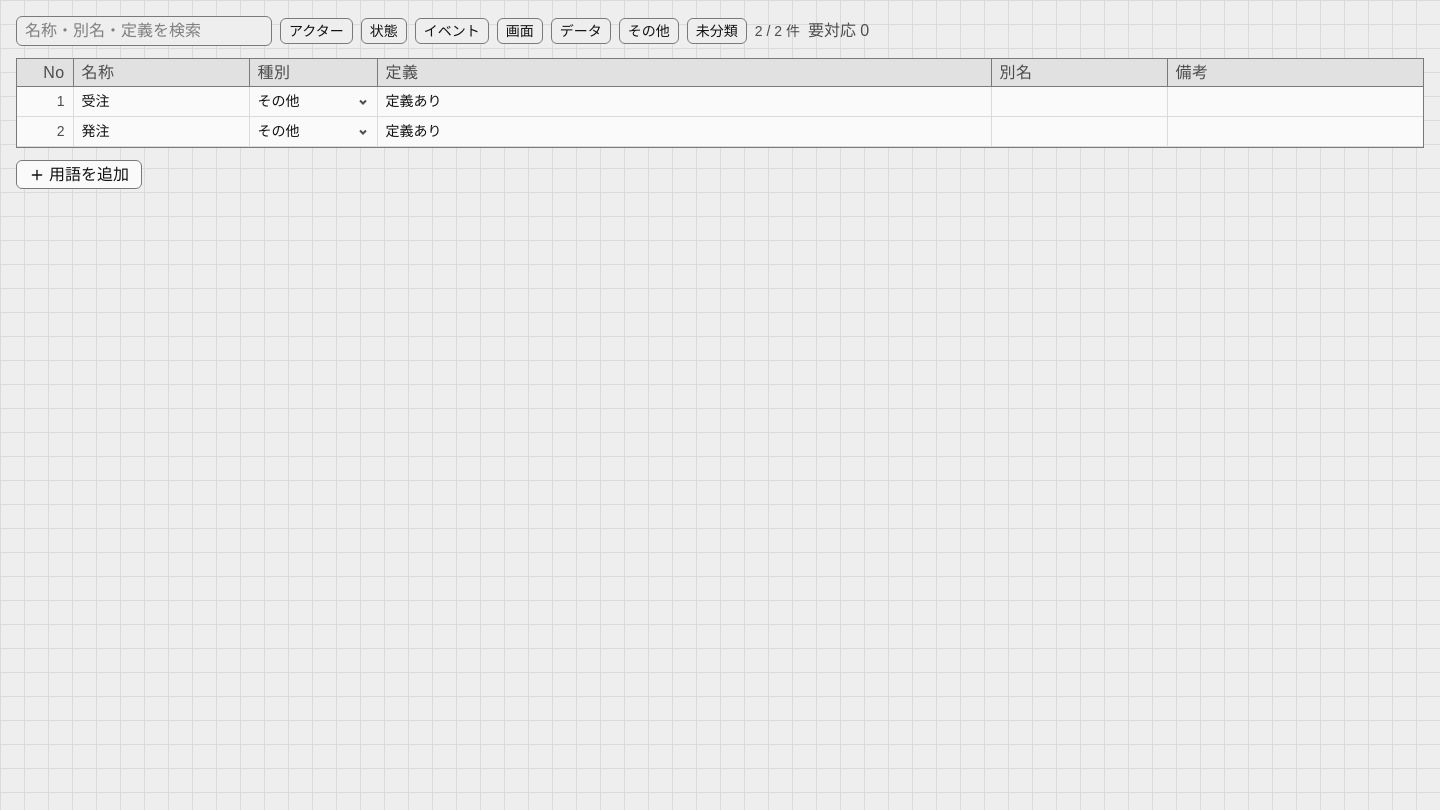
GlossaryEditor: 別名パネル › パネル末尾での↓は下の行の別名セルへ抜ける（別名列だけ縦移動が途切れない）
Focus the button named "別名（1行目）" at (1079, 102), box [992,98,1166,106]
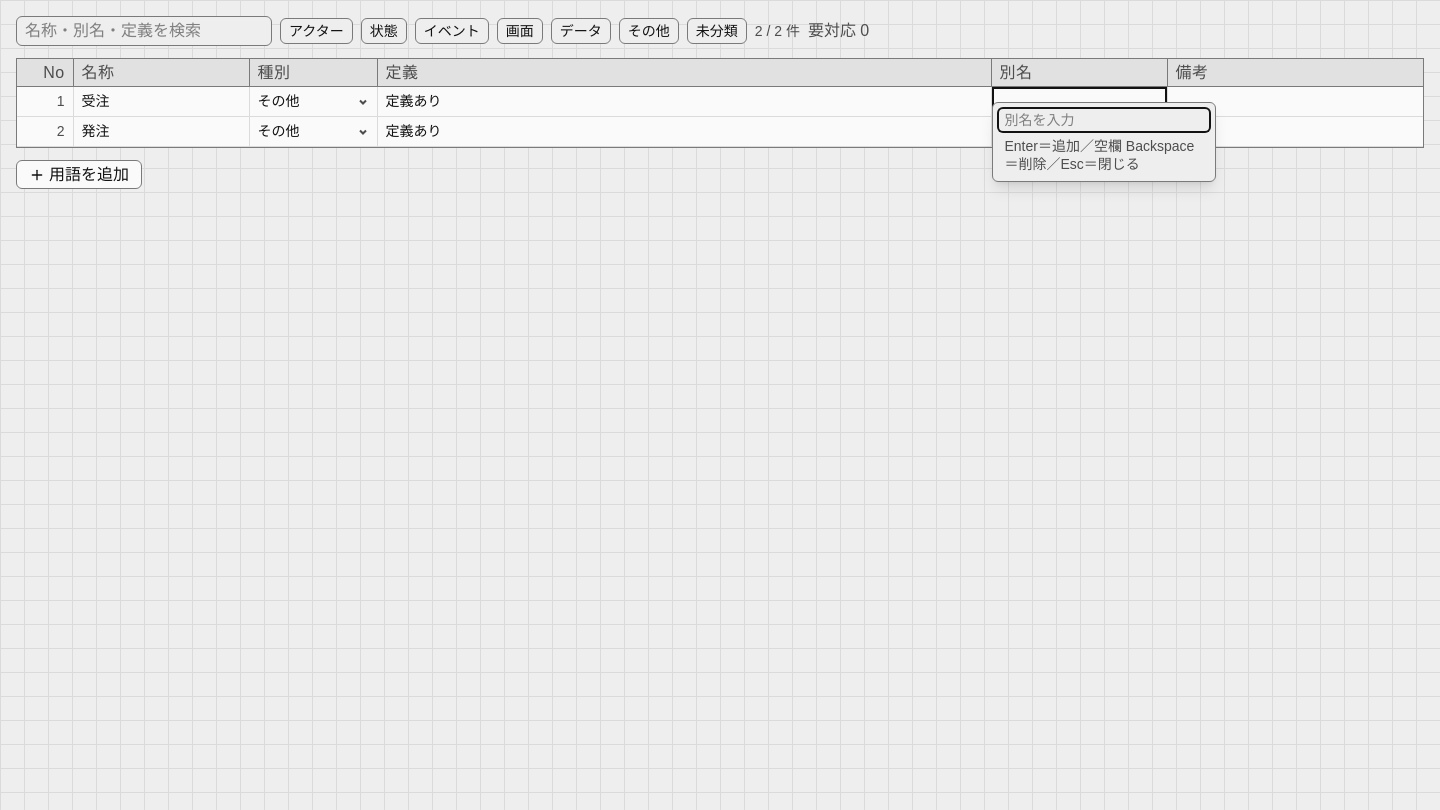
Press ArrowDown in the field named "別名1", box [996,106,1210,133]
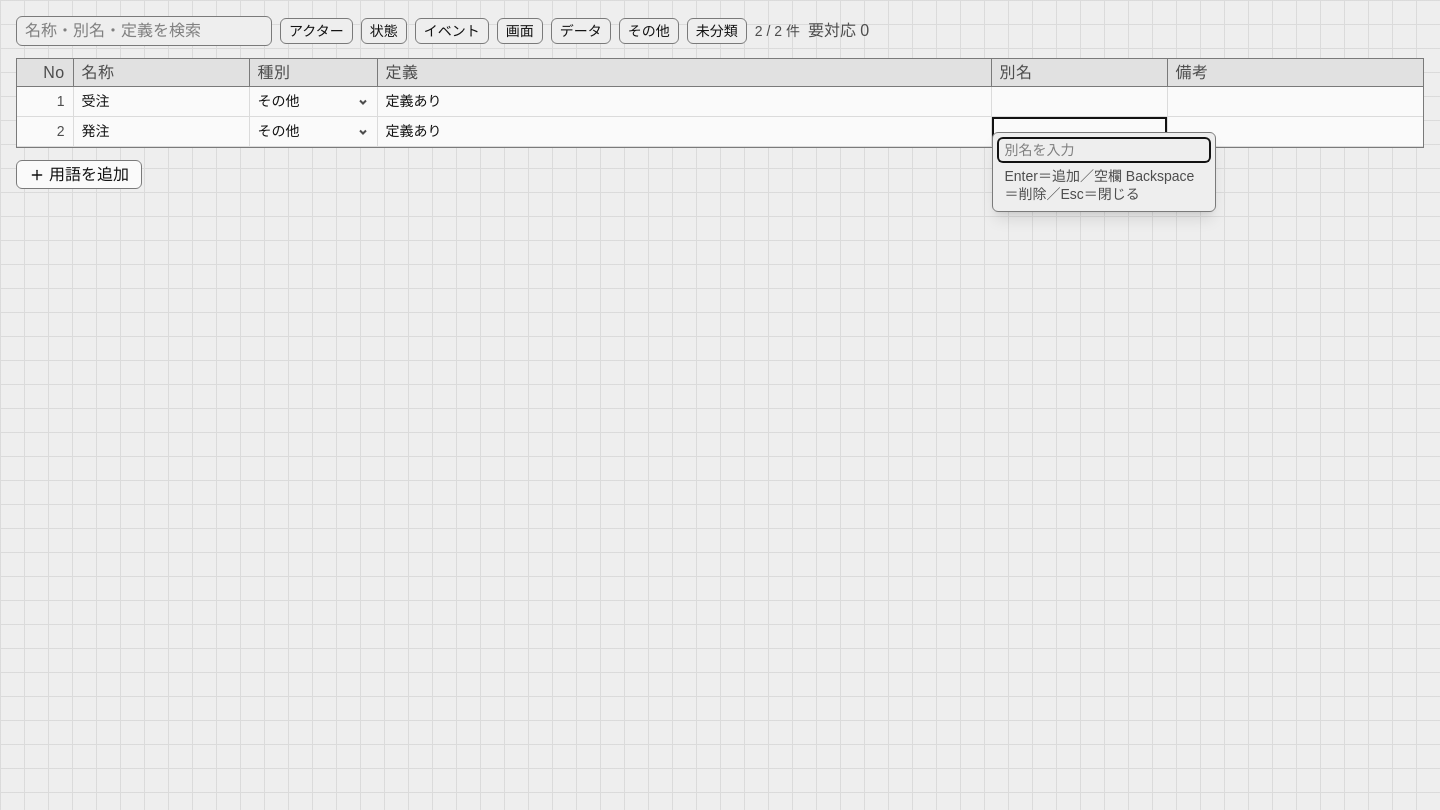
Expected: the button labelled "別名（2行目）" is gone
Expected: the button named "別名（1行目）" is shown, [992,98,1166,106]
